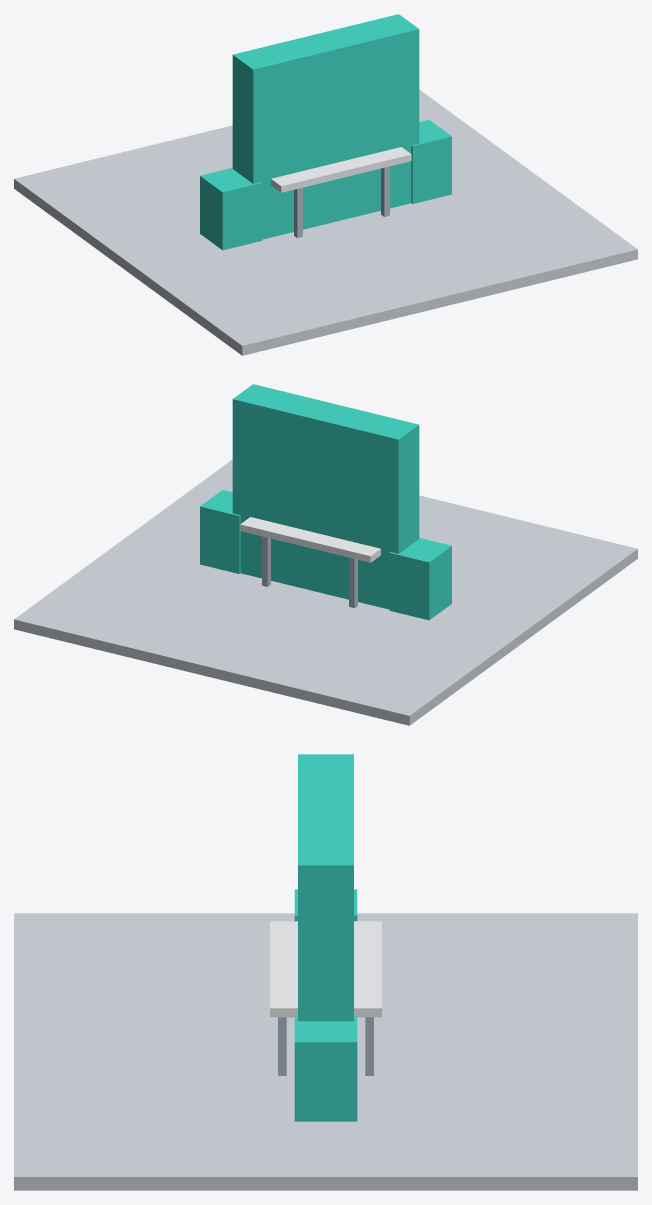
The picture shows the model from 3 angles, top to bottom: view 1: azimuth 30°, elevation 25°; view 2: azimuth 150°, elevation 25°; view 3: azimuth 270°, elevation 25°; orthographic projection. The views are drawn at different scales.
Visible parts, largest first — view 1: Exhibition Booth Concept; view 2: Exhibition Booth Concept; view 3: Exhibition Booth Concept.
Boxes of the visible parts, left/top/right/bottom form: Exhibition Booth Concept: left=14, top=14, right=637, bottom=355; Exhibition Booth Concept: left=14, top=384, right=637, bottom=725; Exhibition Booth Concept: left=14, top=754, right=637, bottom=1190.
Size of the model in its own units: 5 by 2.2 by 5.
